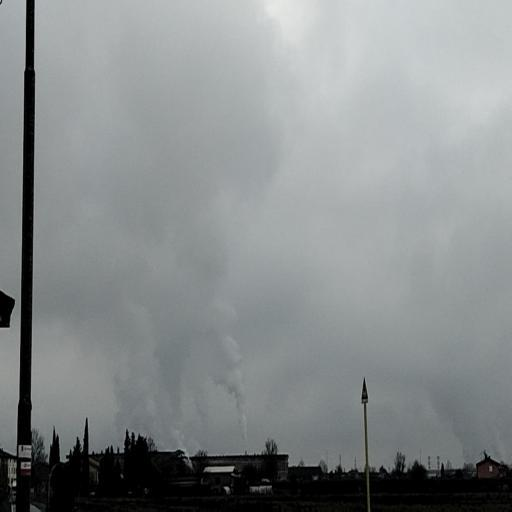leakage: (104, 225, 255, 470)
